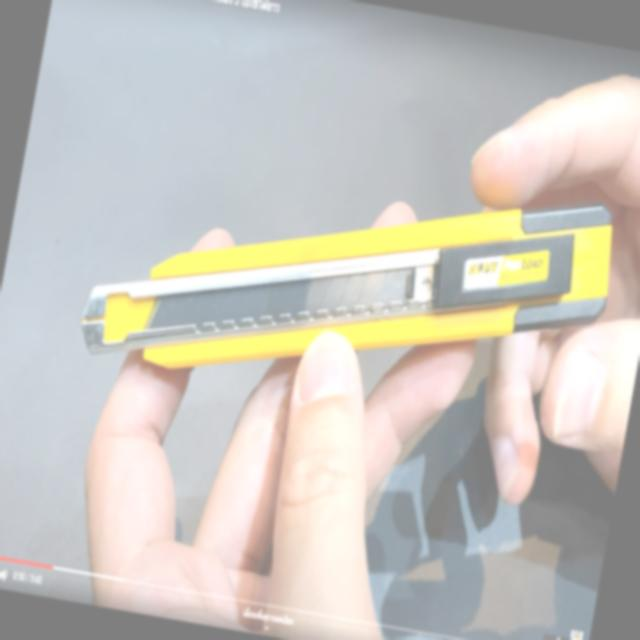cutter: (24, 39, 640, 640)
